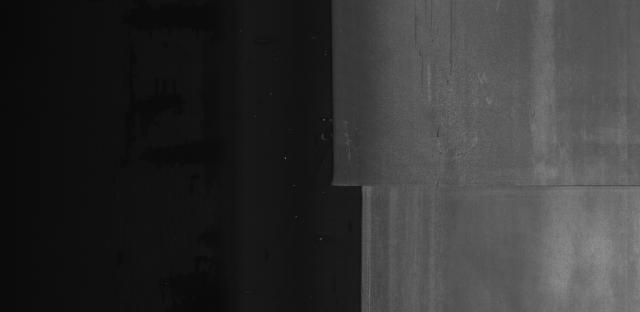welding_line: (328, 177, 640, 202)
